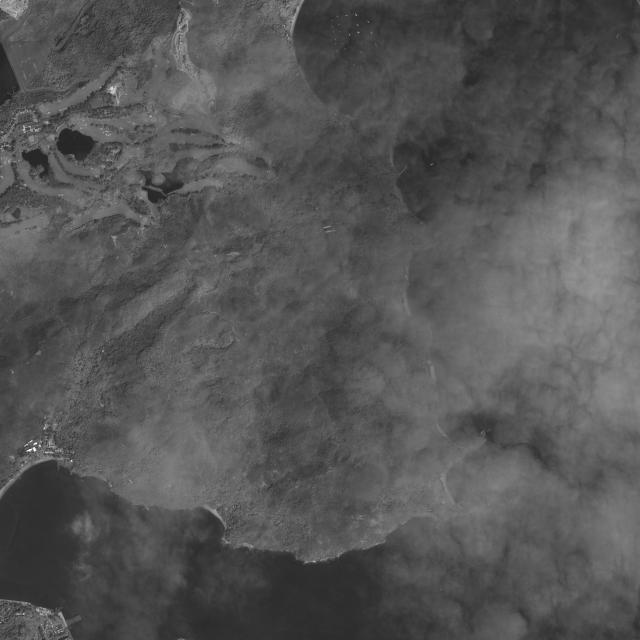ship: (616, 33, 619, 39), (430, 163, 434, 165), (546, 164, 548, 167), (440, 589, 442, 590)
